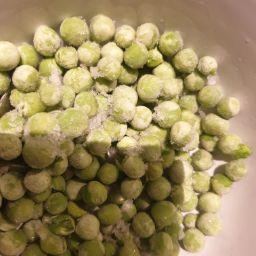Peas: (2, 9, 252, 256), (7, 13, 253, 256), (152, 113, 214, 226), (102, 168, 166, 250), (100, 22, 172, 90), (24, 110, 77, 176), (27, 22, 80, 82)
